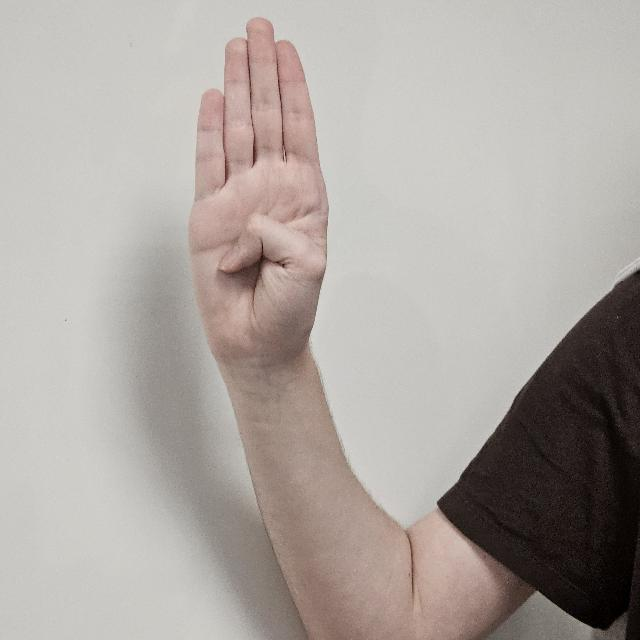Baixo: (182, 12, 348, 398)
